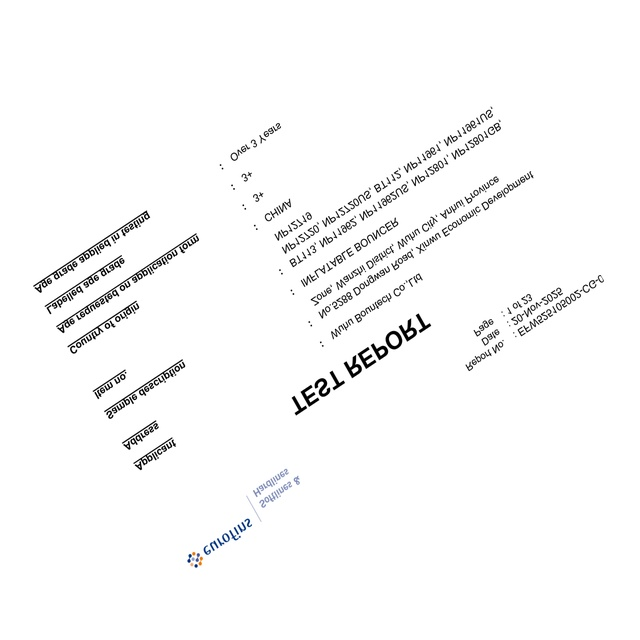eurofins: (182, 512, 255, 572)
